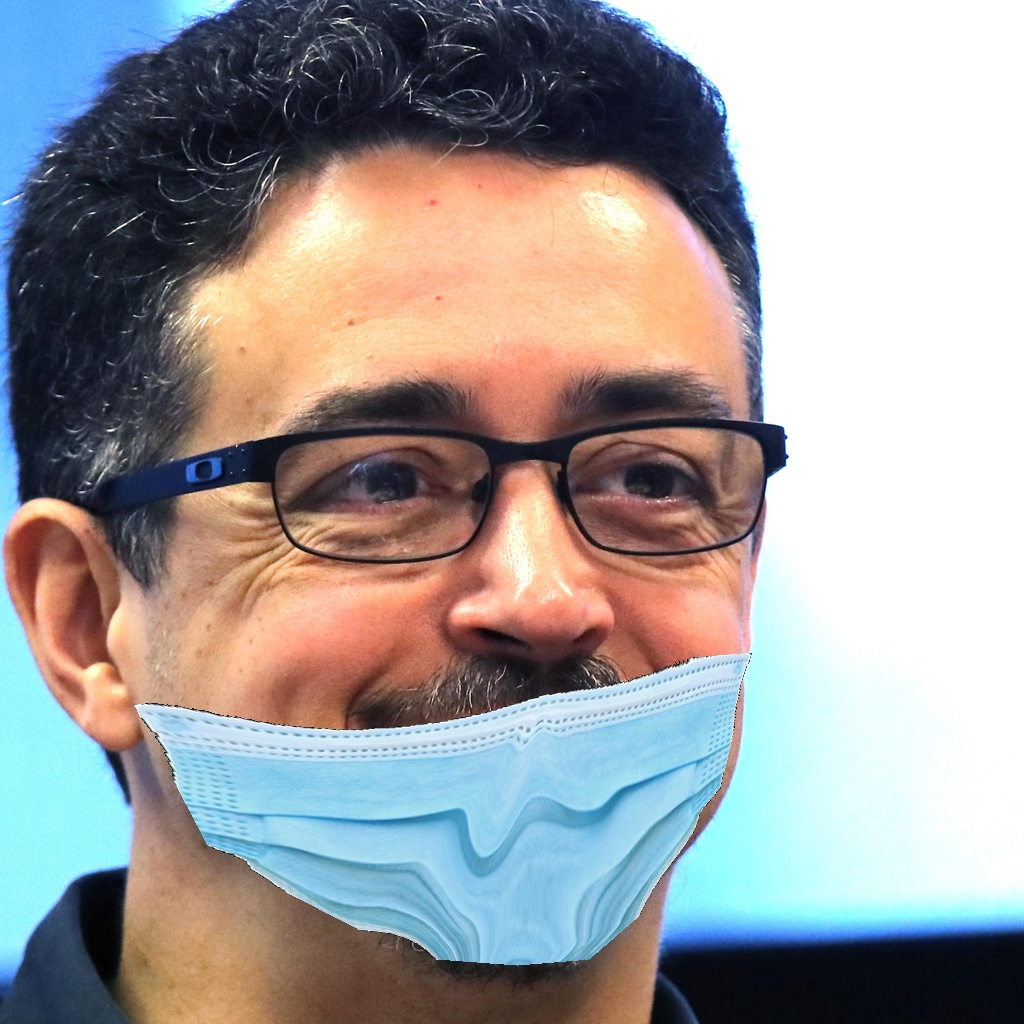mascarilla_mal_puesta: (117, 373, 739, 960)
